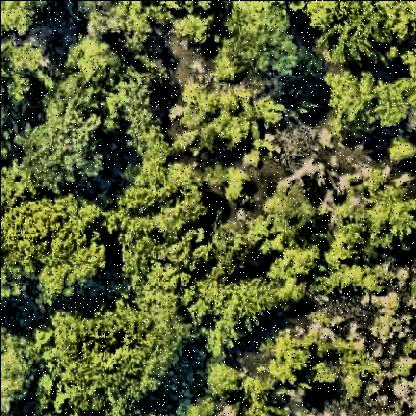tree-top: (35, 304, 183, 413), (2, 198, 108, 307), (163, 79, 285, 165), (14, 101, 110, 195), (184, 274, 293, 354), (302, 3, 416, 66), (243, 190, 321, 281), (210, 2, 301, 79), (319, 69, 411, 145), (112, 170, 211, 240), (330, 171, 416, 251), (261, 329, 313, 387), (1, 1, 38, 40)
